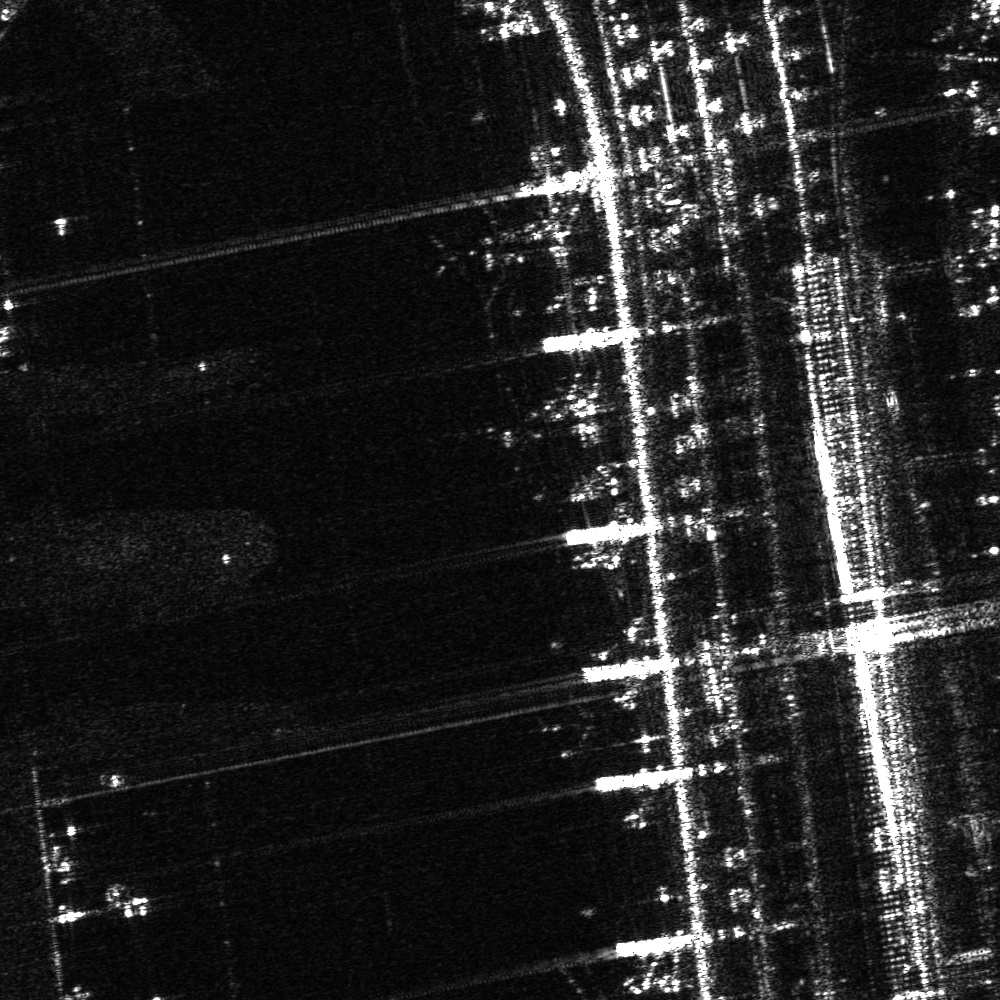A220: (532, 685, 619, 763)
other: (427, 361, 555, 495), (426, 183, 548, 321)
